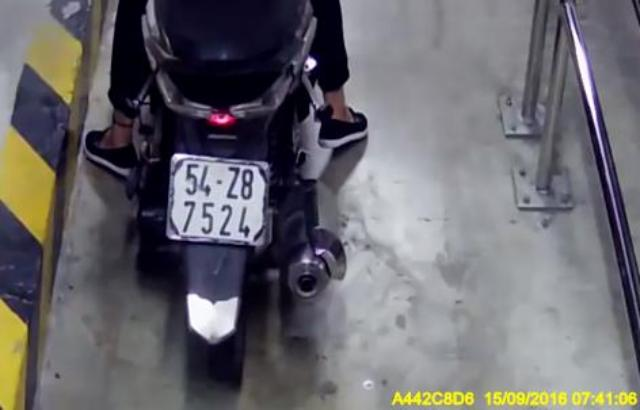plate: (159, 150, 283, 254)
